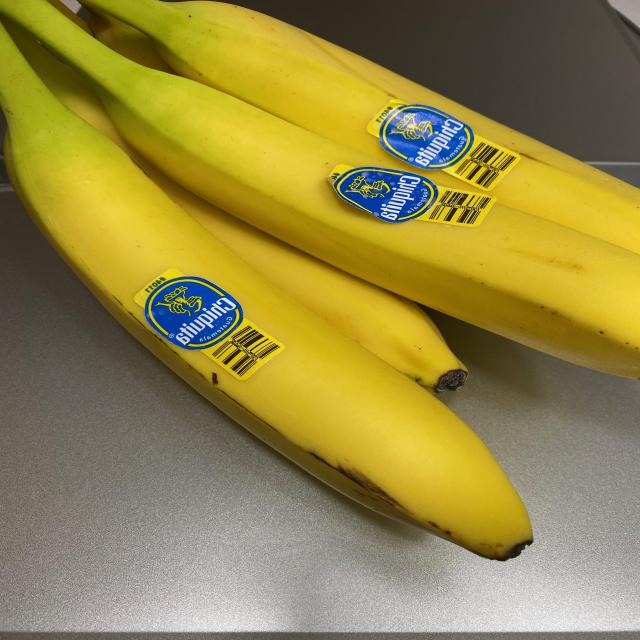banana: (4, 1, 632, 563)
